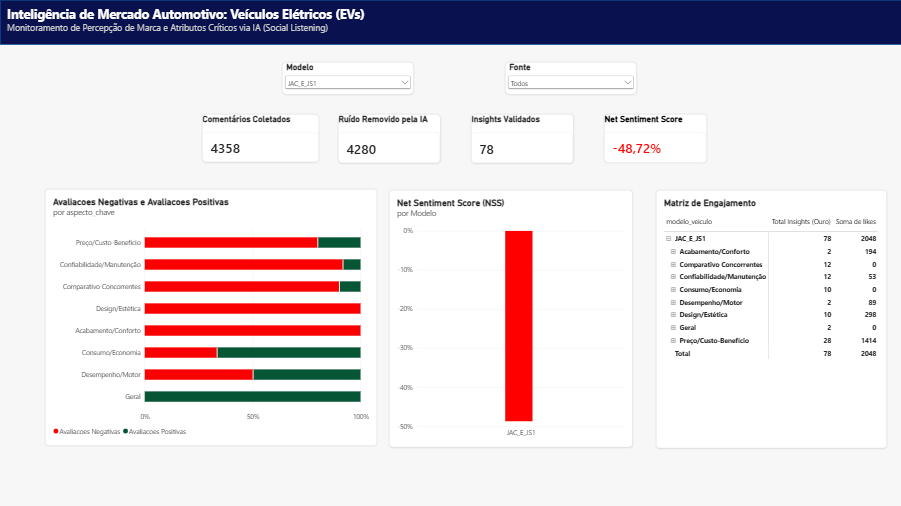

Layout of this report page (visuals, bound fields, positions):
{"tool":"powerbi","page":{"name":"Página 1","canvas":[1920,1080],"ordinal":0},"visuals":[{"type":"shape","box":[0,0,1920,95],"z":0},{"type":"slicer","fields":{"Values":["dModelo.Modelo"]},"box":[25,111,280,68.6],"z":1000},{"type":"slicer","fields":{"Values":["dFonte.Fonte"]},"box":[376,111,280,68.6],"z":2000},{"type":"cardVisual","title":"Comentários Coletados","fields":{"Data":["_Medidas.Total Volume Bruto"]},"box":[48.9,282.8,249.4,103.3],"z":2001},{"type":"cardVisual","title":"Ruído Removido pela IA","fields":{"Data":["_Medidas.Ruido Descartado"]},"box":[355,282.8,217.5,105],"z":2002},{"type":"cardVisual","title":"Insights Validados","fields":{"Data":["_Medidas.Total Insights (Ouro)"]},"box":[633.5,282.8,217.5,105],"z":2003},{"type":"cardVisual","title":"Net Sentiment Score","fields":{"Data":["_Medidas.Net Sentiment Score (NSS)"]},"box":[916.3,282.8,219,104.2],"z":2004},{"type":"donutChart","fields":{"Y":["_Medidas.Ruido Descartado","_Medidas.Total Insights (Ouro)"]},"box":[48.9,433.7,496.4,340.2],"z":2005},{"type":"hundredPercentStackedBarChart","fields":{"Category":["fAvaliacoes.aspecto_chave"],"Y":["_Medidas.Avaliacoes Negativas","_Medidas.Avaliacoes Positivas"]},"box":[608,433.7,705.5,370.4],"z":2006},{"type":"pivotTable","fields":{"Rows":["fAvaliacoes.modelo_veiculo","fAvaliacoes.aspecto_chave","fAvaliacoes.resumo_insight"],"Values":["Sum(fAvaliacoes.likes)"]},"box":[95.7,803.6,297.6,233.9],"z":2008},{"type":"clusteredColumnChart","fields":{"Category":["dModelo.Modelo"],"Y":["_Medidas.Net Sentiment Score (NSS)"]},"box":[1362.8,433.7,518.7,646.3],"z":2009}]}

Visuals, with their boxes in screenshot pixels (x1, y1, x2, y2), scaled from the page's 1920x1080 canvas onto the 901x506 screenshot:
shape: [0,0,900,45]
slicer - dModelo.Modelo: [12,52,143,84]
slicer - dFonte.Fonte: [176,52,308,84]
"Comentários Coletados" cardVisual: [23,132,140,181]
"Ruído Removido pela IA" cardVisual: [167,132,269,182]
"Insights Validados" cardVisual: [297,132,399,182]
"Net Sentiment Score" cardVisual: [430,132,533,181]
donutChart - _Medidas.Ruido Descartado x _Medidas.Total Insights (Ouro): [23,203,256,363]
hundredPercentStackedBarChart - fAvaliacoes.aspecto_chave x _Medidas.Avaliacoes Negativas: [285,203,616,377]
pivotTable - fAvaliacoes.modelo_veiculo x fAvaliacoes.aspecto_chave: [45,377,185,486]
clusteredColumnChart - dModelo.Modelo x _Medidas.Net Sentiment Score (NSS): [640,203,883,505]
